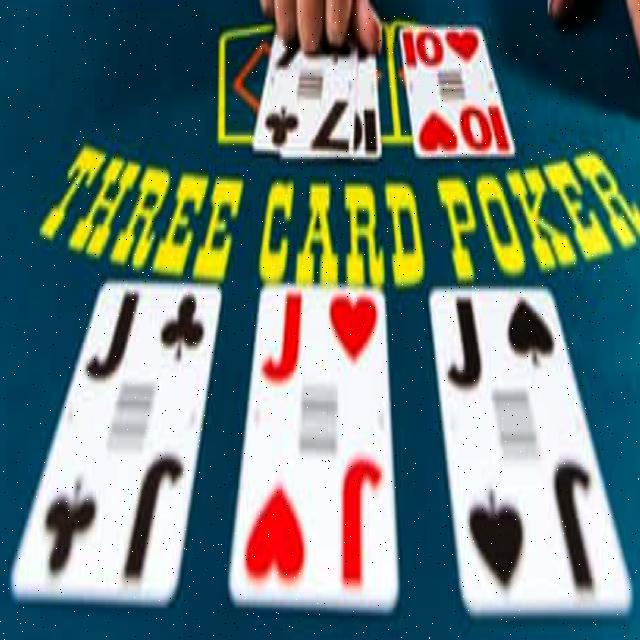Card-10: (398, 23, 514, 158), (352, 37, 380, 155)
Card-7: (252, 28, 355, 155)
Card-J: (12, 274, 221, 608), (431, 281, 631, 612), (230, 285, 395, 603)
